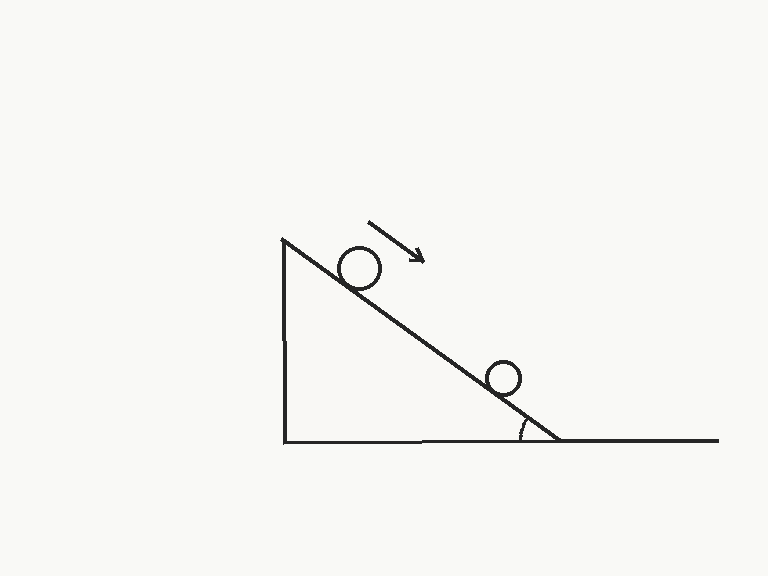ball: (335, 244, 383, 292), (483, 358, 523, 398)
ramp: (281, 237, 562, 443)
